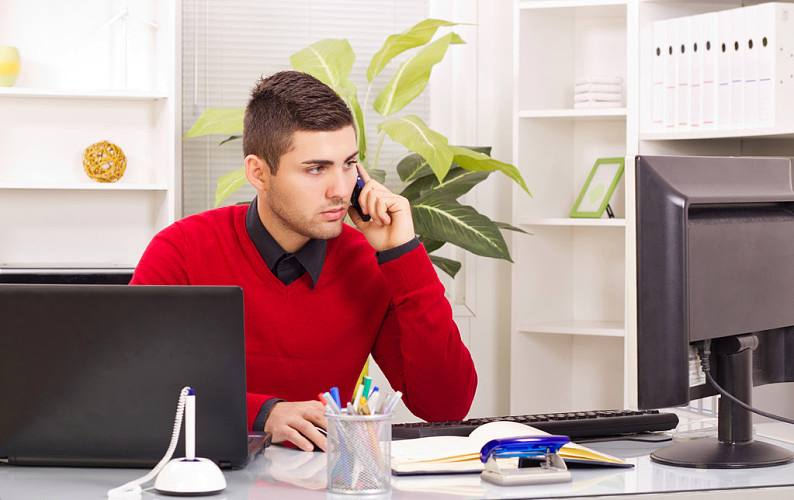calling: (342, 156, 417, 248)
